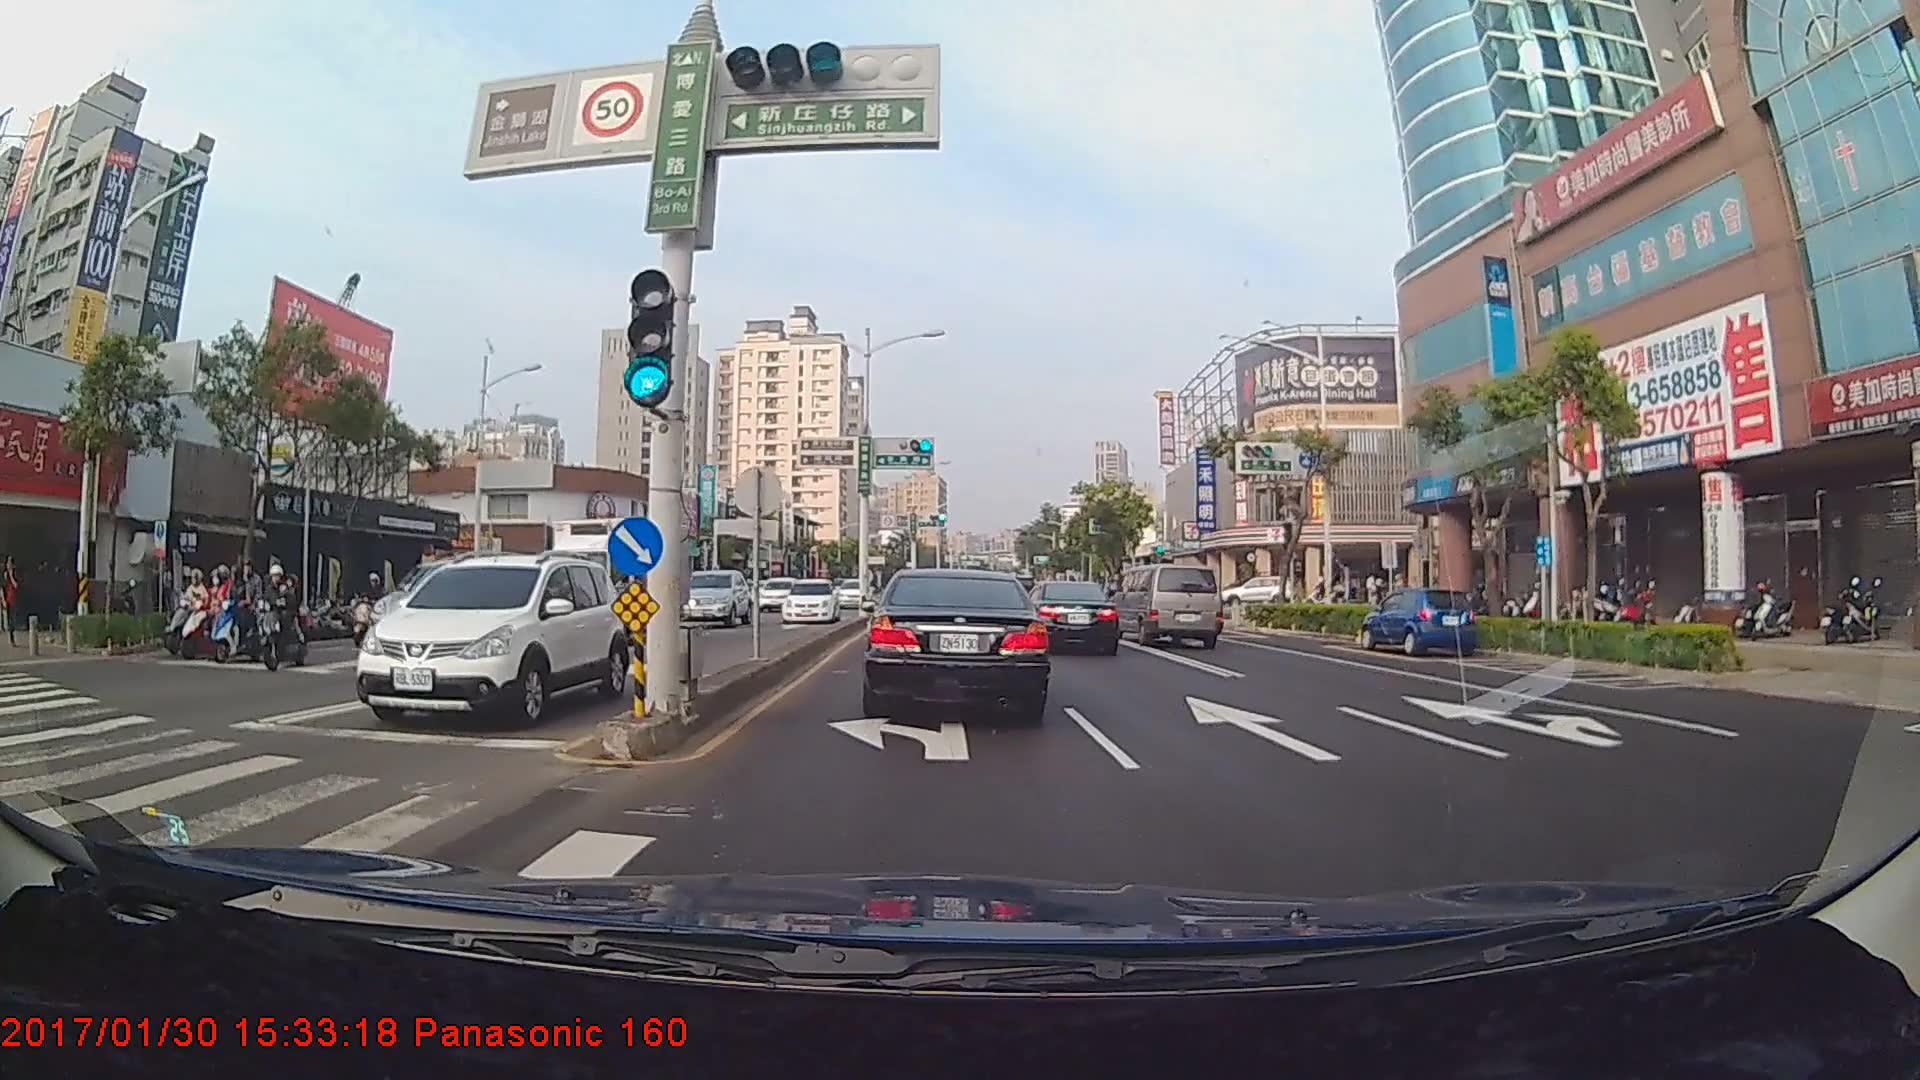pedestrian: (1, 553, 26, 651)
rider: (209, 561, 289, 661), (250, 559, 318, 677), (179, 562, 256, 659), (165, 566, 226, 655)
vehicle: (357, 554, 619, 725), (867, 563, 1046, 718), (535, 514, 680, 653), (1112, 564, 1221, 648), (1361, 586, 1478, 657), (1018, 572, 1119, 654), (675, 563, 748, 627), (776, 574, 836, 623), (1228, 577, 1280, 606), (755, 576, 797, 609), (834, 576, 867, 609)
